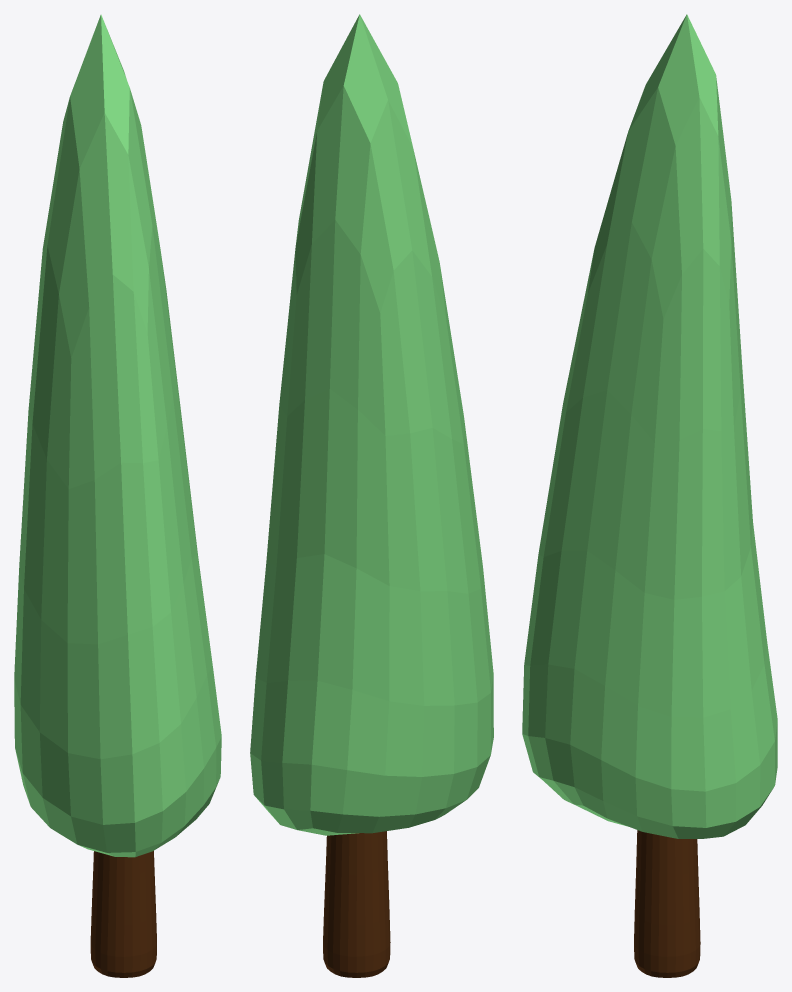
Rendered from Tree_02.fbx.
3 renders of one model, left to right at view 1: azimuth 30°, elevation 25°; view 2: azimuth 150°, elevation 25°; view 3: azimuth 270°, elevation 25°, orthographic.
Visible parts, largest first — view 1: Tree.001; view 2: Tree.001; view 3: Tree.001.
Boxes of the visible parts, left/top/right/bottom form: Tree.001: left=14, top=14, right=221, bottom=977; Tree.001: left=250, top=14, right=493, bottom=977; Tree.001: left=522, top=14, right=777, bottom=977.
Bounding box in the file's own units: 149 × 715 × 175.
